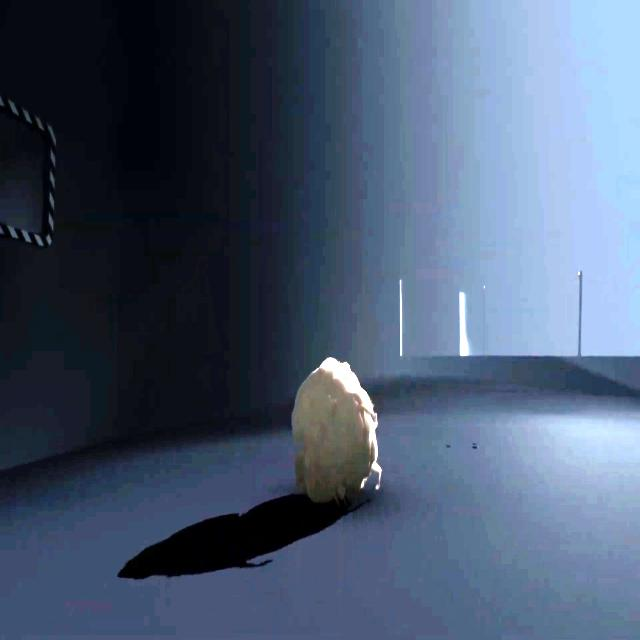blob: (290, 358, 381, 508)
